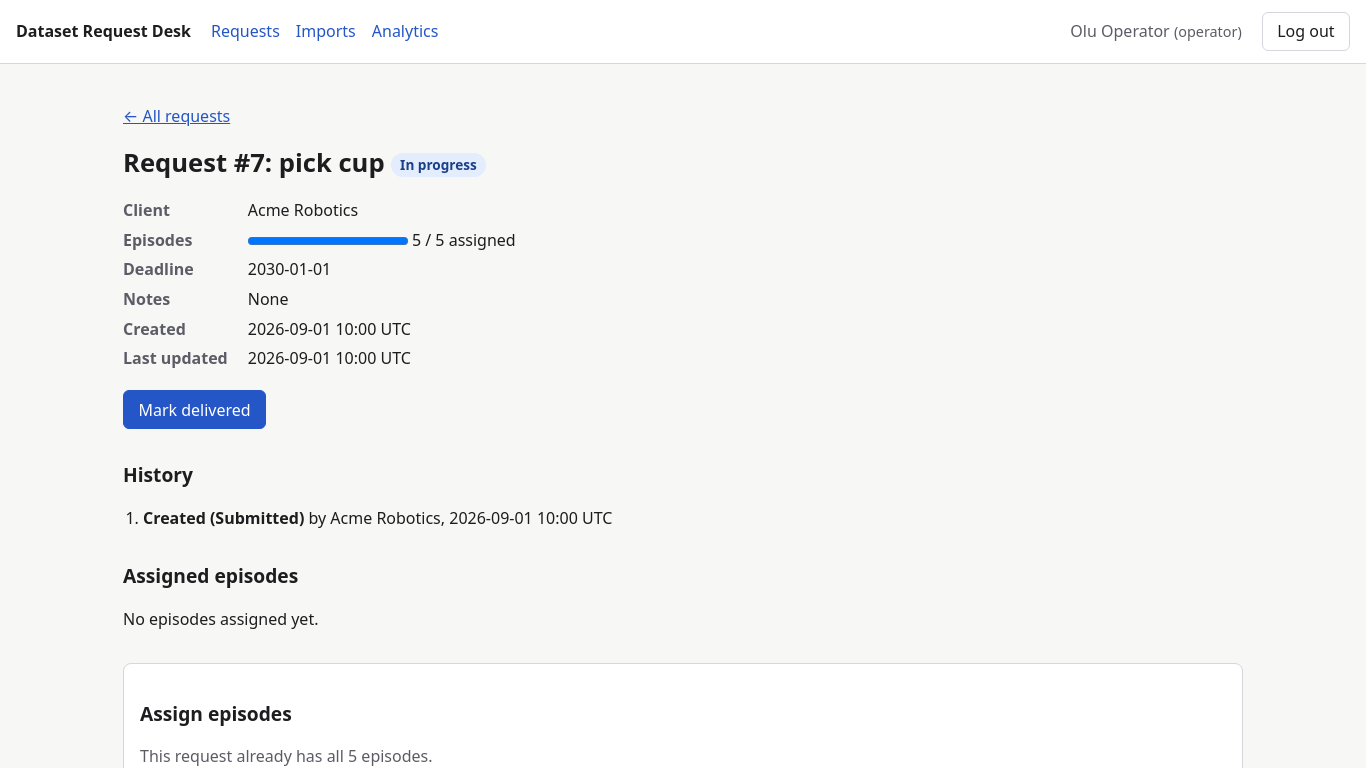
Scenario: accepting a delivery › shows the server's message if the change is refused
Click the button "Mark delivered": (194, 410) [123,390,266,429]
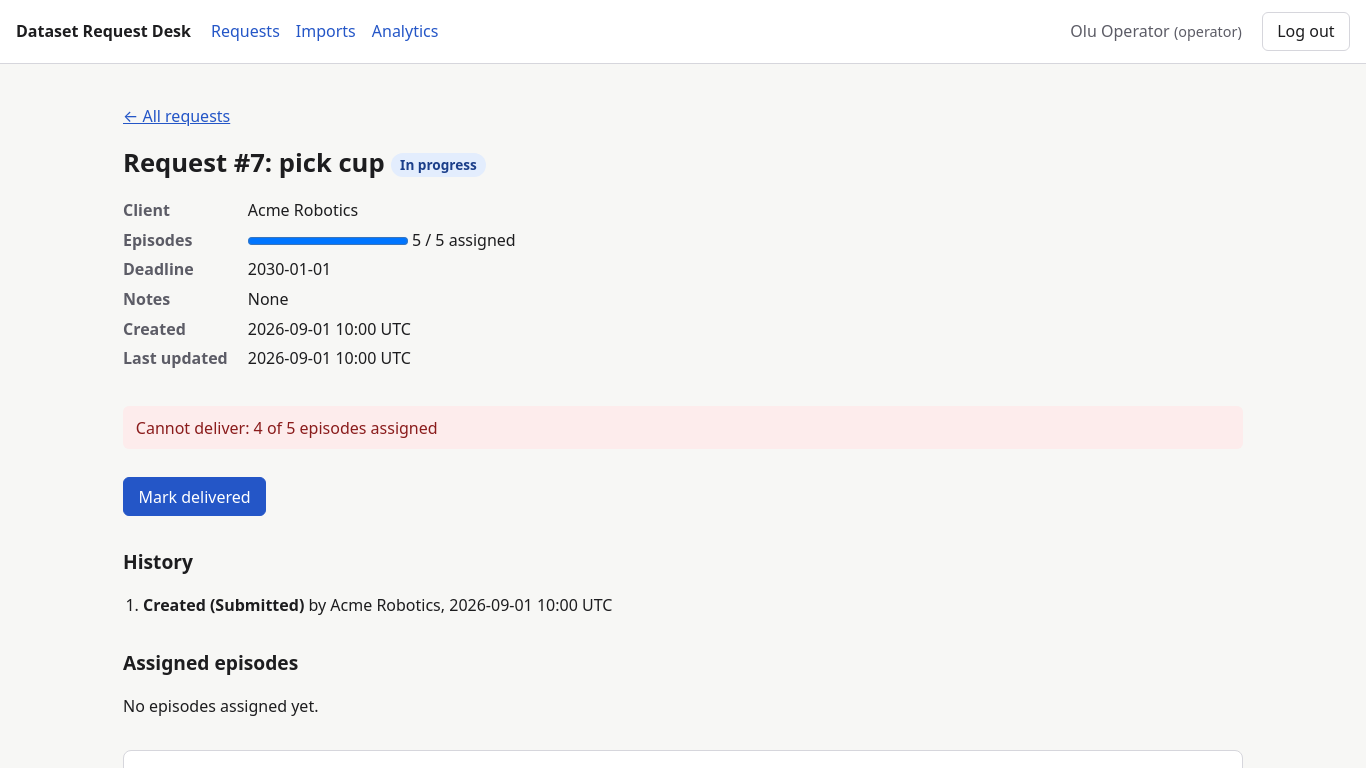
Expected: the message reads "Cannot deliver: 4 of 5 episodes assigned", [136,417,438,439]
